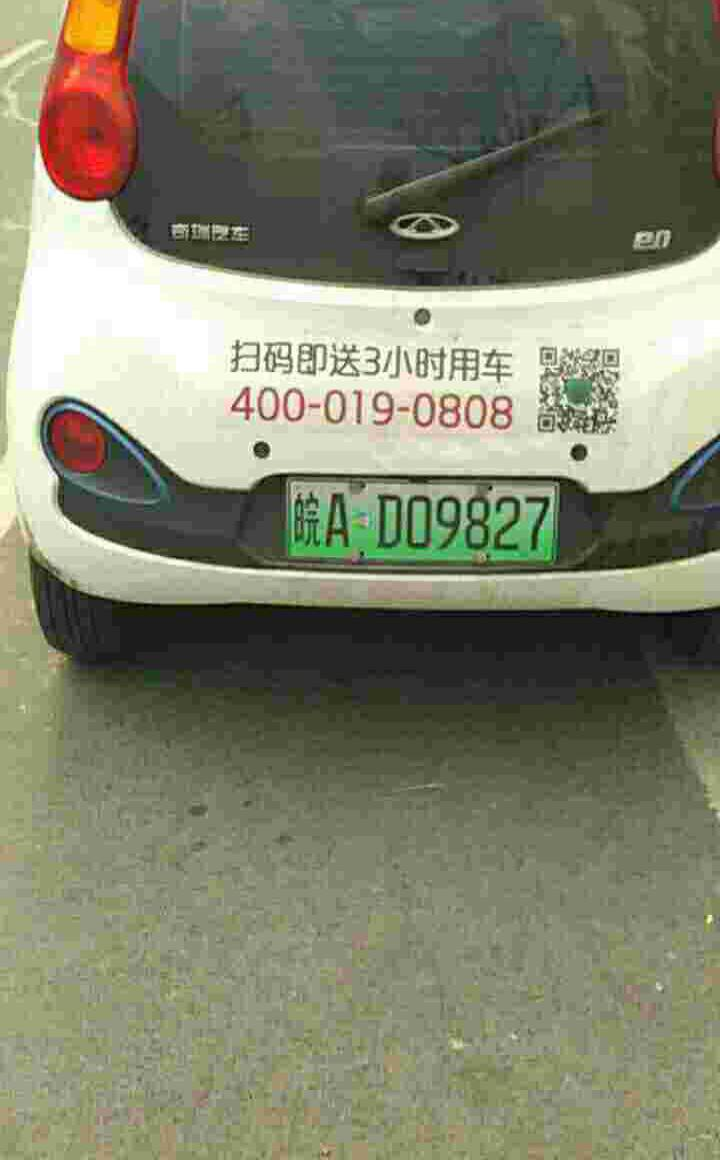car_id: (287, 479, 557, 564)
